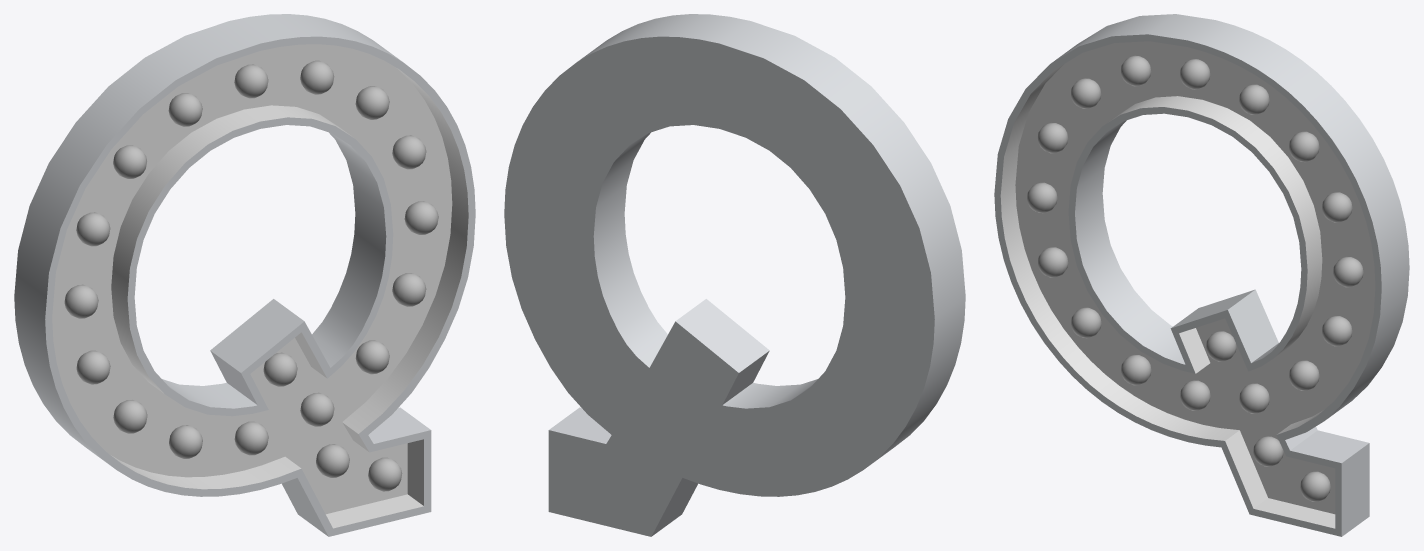
Rendered from LettersBulb01_Q.FBX.
The picture shows the model from 3 angles, left to right: view 1: azimuth 30°, elevation 25°; view 2: azimuth 150°, elevation 25°; view 3: azimuth 330°, elevation 25°; orthographic projection. The views are drawn at different scales.
Visible parts, largest first — view 1: LettersBulb01_Q; view 2: LettersBulb01_Q; view 3: LettersBulb01_Q.
Boxes of the visible parts, x1,y1,x2,y2 form: LettersBulb01_Q: (14,14,475,536); LettersBulb01_Q: (504,14,965,536); LettersBulb01_Q: (994,14,1409,536).
Size of what is drawn, in the model's own units: 1.25 by 1.42 by 0.1563.
